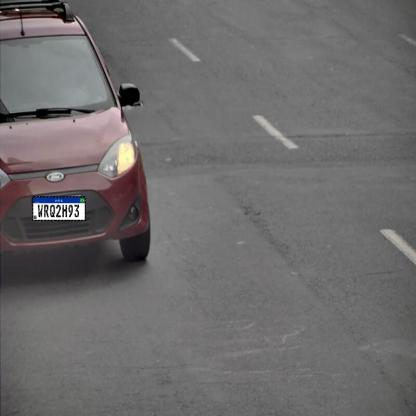PlacaM: (32, 196, 86, 221)
